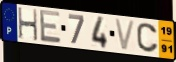4: (90, 15, 109, 50)
7: (67, 13, 87, 46)
C: (135, 22, 160, 54)
E: (39, 8, 62, 44)
H: (17, 7, 39, 43)
V: (113, 18, 137, 52)
